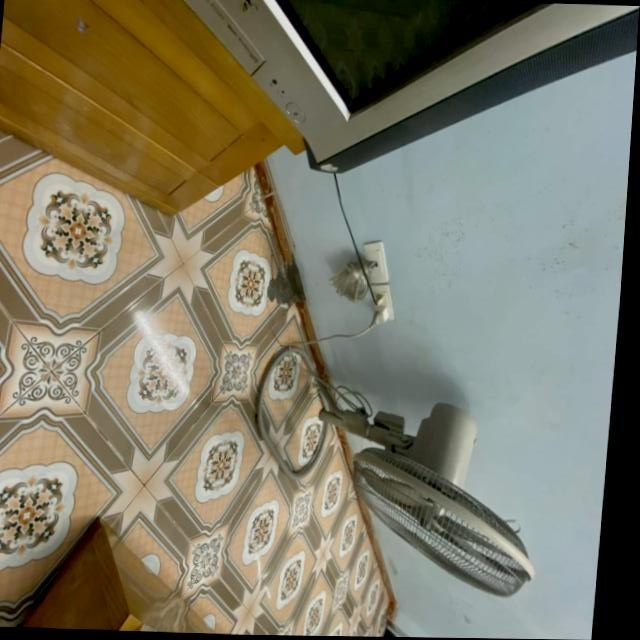outlet: (360, 240, 393, 283), (366, 283, 398, 323)
